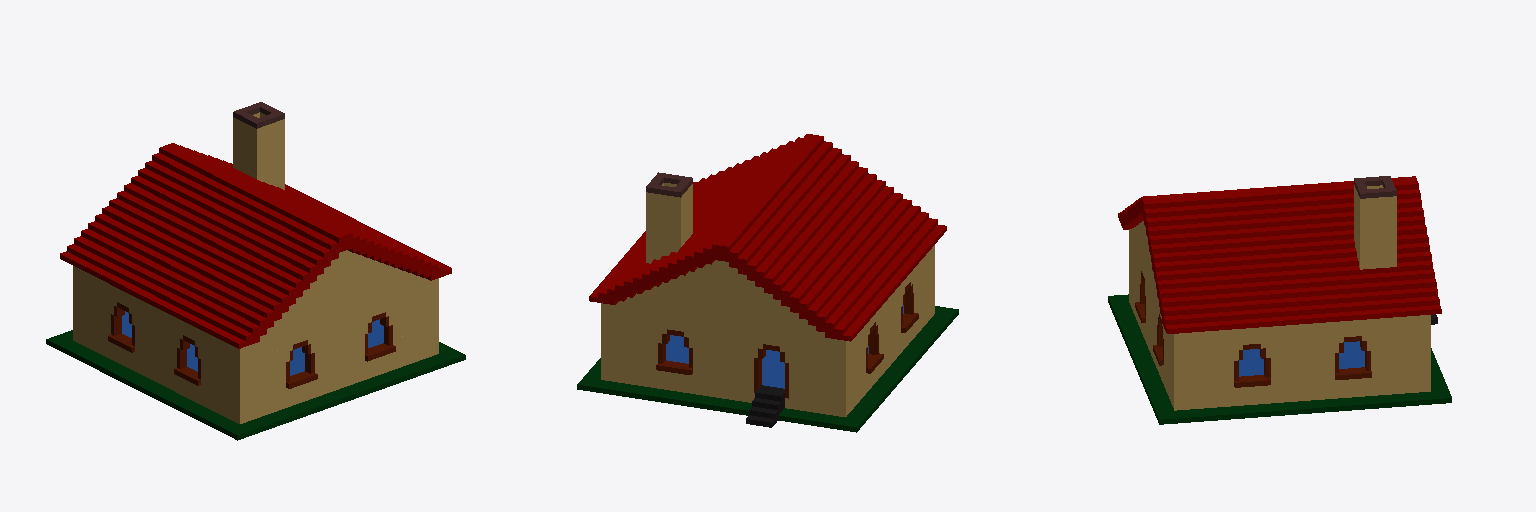
The model's file is house.obj.
3 renders of one model, left to right at view 1: azimuth 30°, elevation 25°; view 2: azimuth 150°, elevation 25°; view 3: azimuth 270°, elevation 25°, orthographic.
Visible parts, largest first — view 1: SmoothBlockModel476, SmoothBlockModel467, SmoothBlockModel444, SmoothBlockModel2, SmoothBlockModel83, SmoothBlockModel50, SmoothBlockModel9, SmoothBlockModel149; view 2: SmoothBlockModel476, SmoothBlockModel467, SmoothBlockModel444, SmoothBlockModel149, SmoothBlockModel83, SmoothBlockModel9, SmoothBlockModel50, SmoothBlockModel2; view 3: SmoothBlockModel476, SmoothBlockModel467, SmoothBlockModel444, SmoothBlockModel2, SmoothBlockModel9, SmoothBlockModel50, SmoothBlockModel83.
Part boxes in pixels (left/top/right/bottom): SmoothBlockModel476: left=46, top=330, right=465, bottom=440; SmoothBlockModel467: left=73, top=331, right=438, bottom=423; SmoothBlockModel444: left=122, top=311, right=383, bottom=375; SmoothBlockModel2: left=303, top=215, right=352, bottom=242; SmoothBlockModel83: left=195, top=161, right=244, bottom=188; SmoothBlockModel50: left=231, top=179, right=279, bottom=206; SmoothBlockModel9: left=267, top=197, right=315, bottom=224; SmoothBlockModel149: left=159, top=143, right=208, bottom=169; SmoothBlockModel476: left=577, top=306, right=958, bottom=432; SmoothBlockModel467: left=601, top=304, right=934, bottom=416; SmoothBlockModel444: left=666, top=305, right=903, bottom=388; SmoothBlockModel149: left=712, top=222, right=747, bottom=251; SmoothBlockModel83: left=731, top=200, right=766, bottom=228; SmoothBlockModel9: left=769, top=156, right=804, bottom=184; SmoothBlockModel50: left=750, top=178, right=785, bottom=206; SmoothBlockModel2: left=788, top=134, right=823, bottom=162; SmoothBlockModel476: left=1108, top=294, right=1451, bottom=424; SmoothBlockModel467: left=1129, top=293, right=1430, bottom=410; SmoothBlockModel444: left=1239, top=341, right=1364, bottom=376; SmoothBlockModel2: left=1141, top=193, right=1198, bottom=208; SmoothBlockModel9: left=1196, top=188, right=1253, bottom=204; SmoothBlockModel50: left=1251, top=184, right=1308, bottom=200; SmoothBlockModel83: left=1306, top=181, right=1353, bottom=196.
Size of the model in its own units: 45.69 by 28.1 by 45.69.